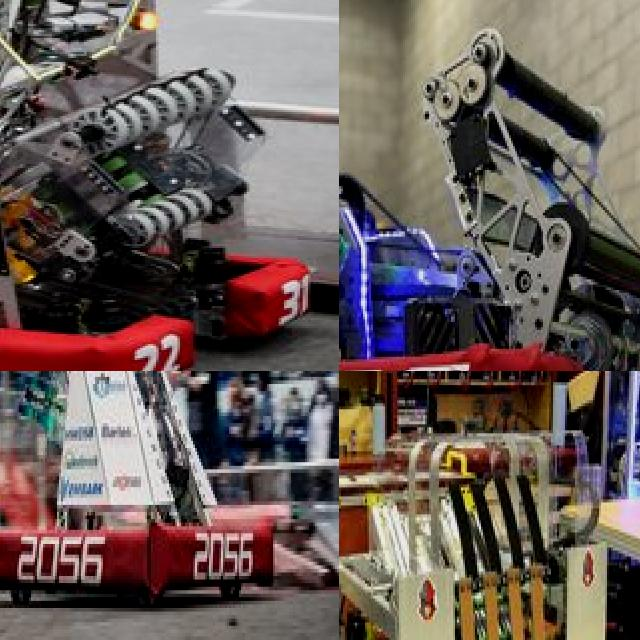FRC-Robots: (0, 0, 318, 371), (339, 11, 640, 371), (0, 371, 284, 640), (339, 418, 640, 640)
